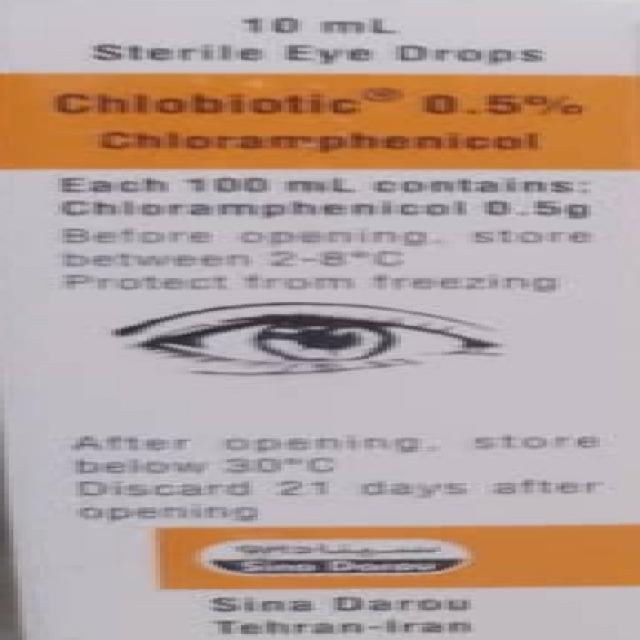drug-name: (53, 88, 588, 123)
